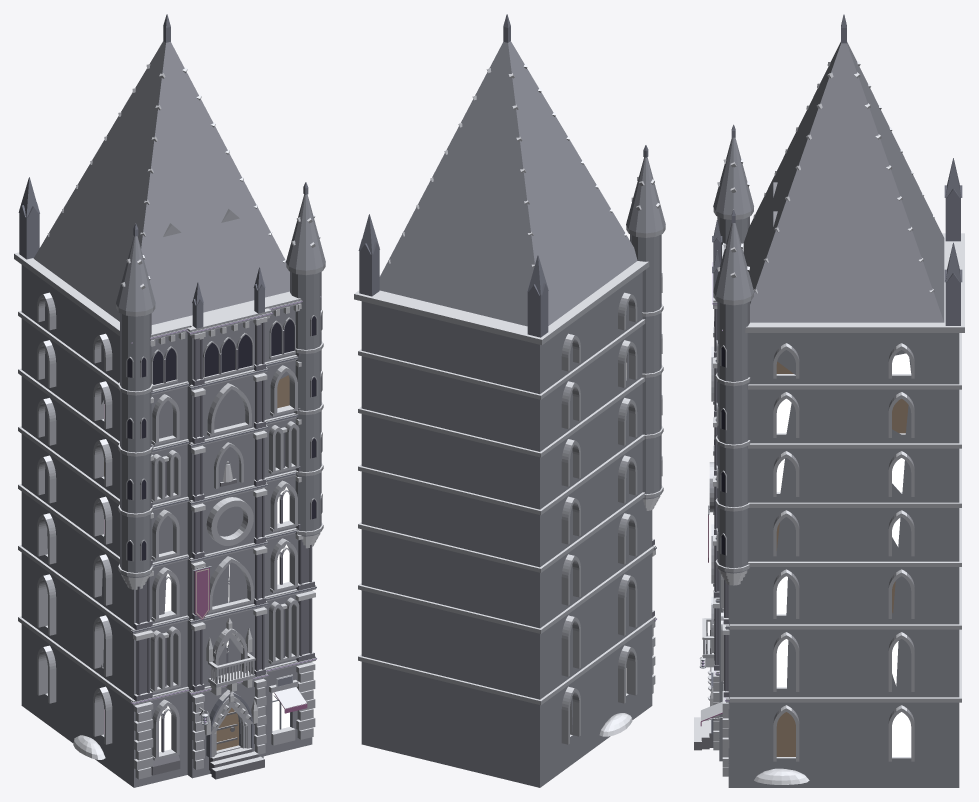
File: AR_Cidade_Torreada.fbx
The picture shows the model from 3 angles, left to right: view 1: azimuth 30°, elevation 25°; view 2: azimuth 150°, elevation 25°; view 3: azimuth 270°, elevation 25°; orthographic projection. The views are drawn at different scales.
Visible parts, largest first — view 1: AR_Cidade_Torreada; view 2: AR_Cidade_Torreada; view 3: AR_Cidade_Torreada.
Part boxes in pixels (bbox=[...]): AR_Cidade_Torreada: bbox=[14, 14, 325, 787]; AR_Cidade_Torreada: bbox=[354, 14, 665, 787]; AR_Cidade_Torreada: bbox=[694, 14, 964, 787].
Size of the model in its own units: 12.67 by 41.9 by 14.11.
